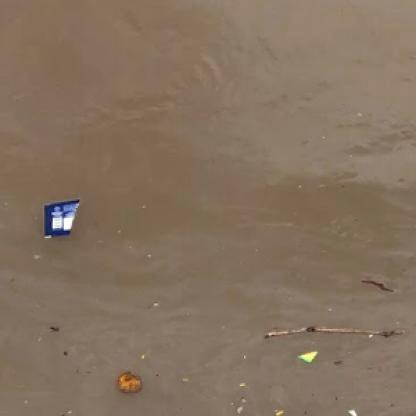Trash: (38, 195, 84, 241)
